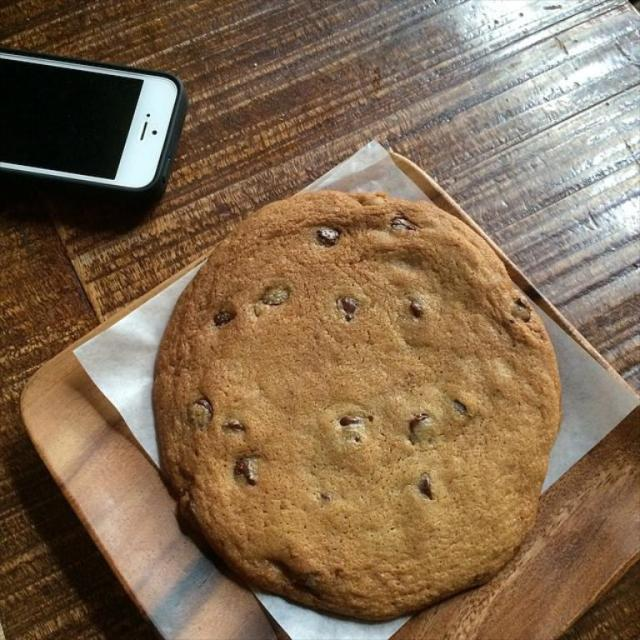Mobile-phone: (0, 54, 171, 194)
